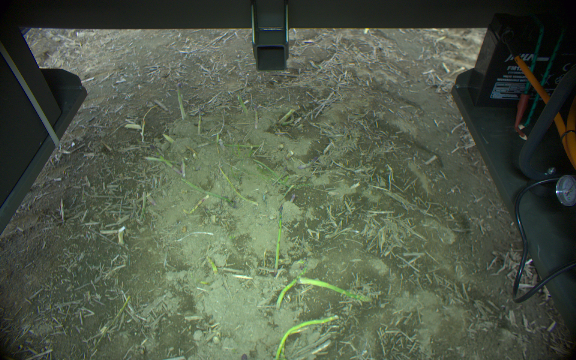aspa: (273, 314, 338, 360), (299, 276, 372, 303), (275, 268, 306, 314), (179, 177, 231, 203), (148, 143, 182, 176), (270, 205, 287, 270), (175, 82, 188, 119), (298, 154, 322, 171), (234, 94, 249, 116), (277, 108, 294, 123), (195, 104, 203, 135)
